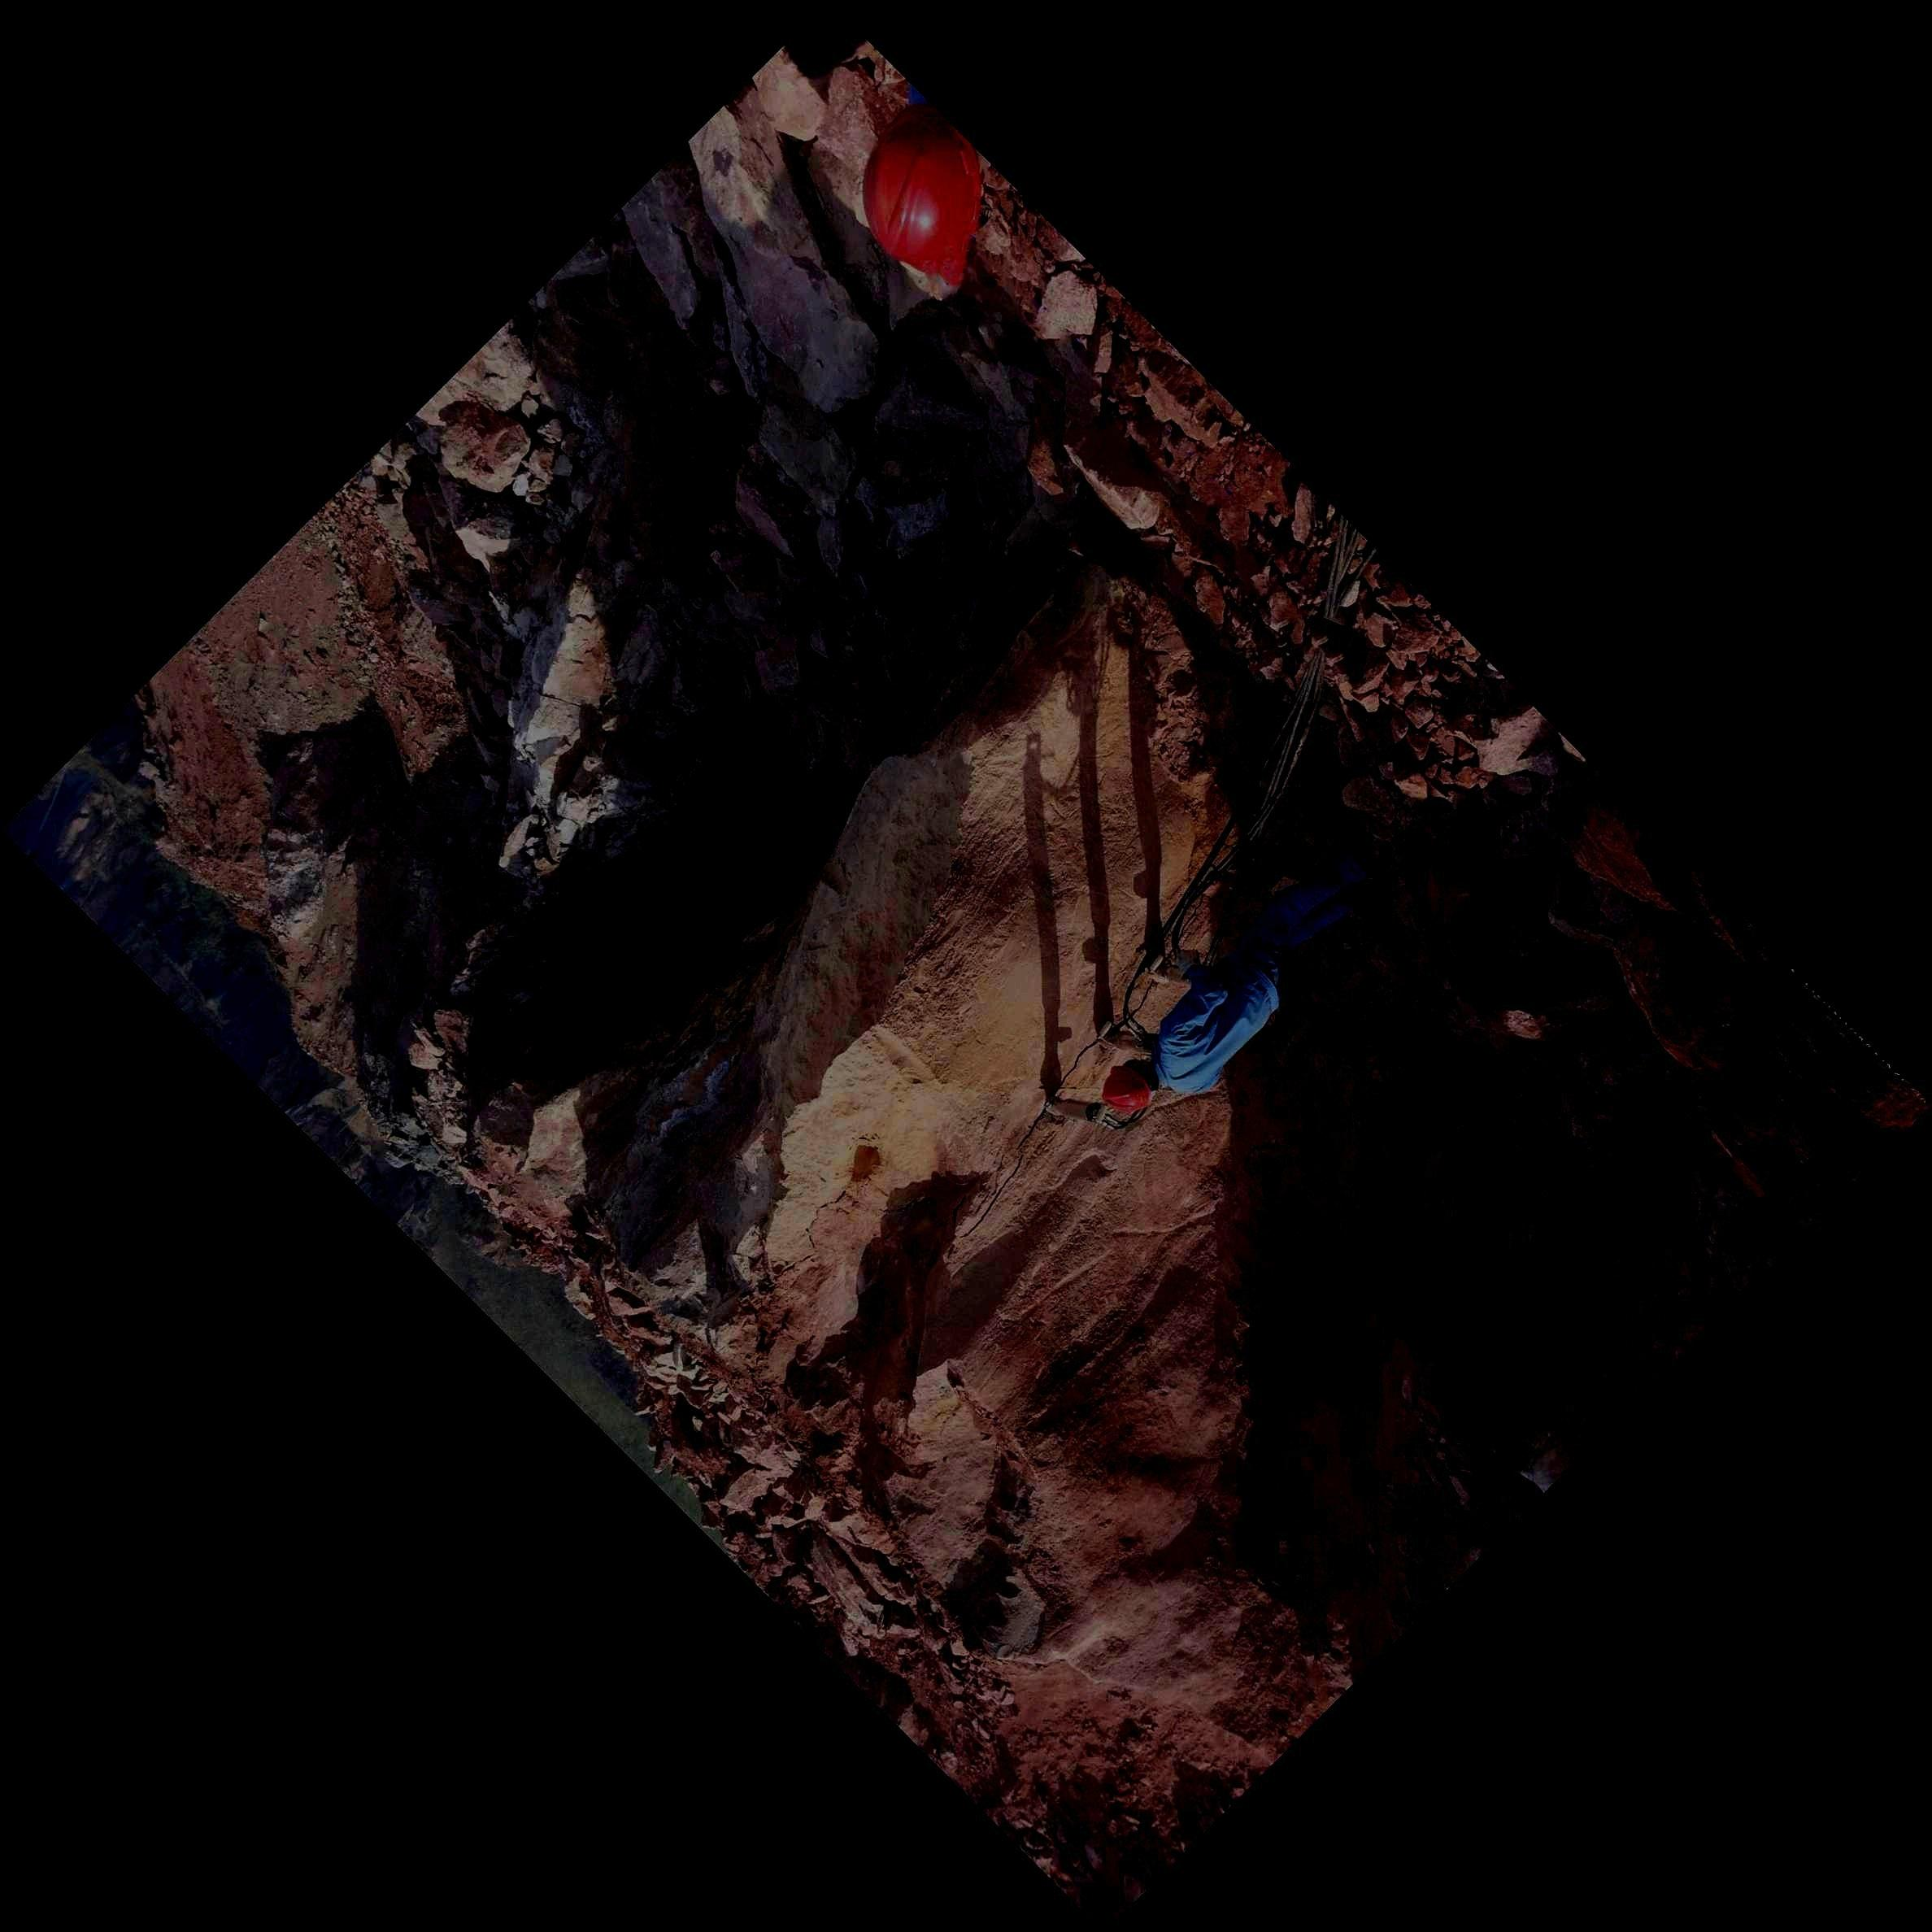helmet: (862, 117, 984, 303), (1100, 1058, 1159, 1116)
